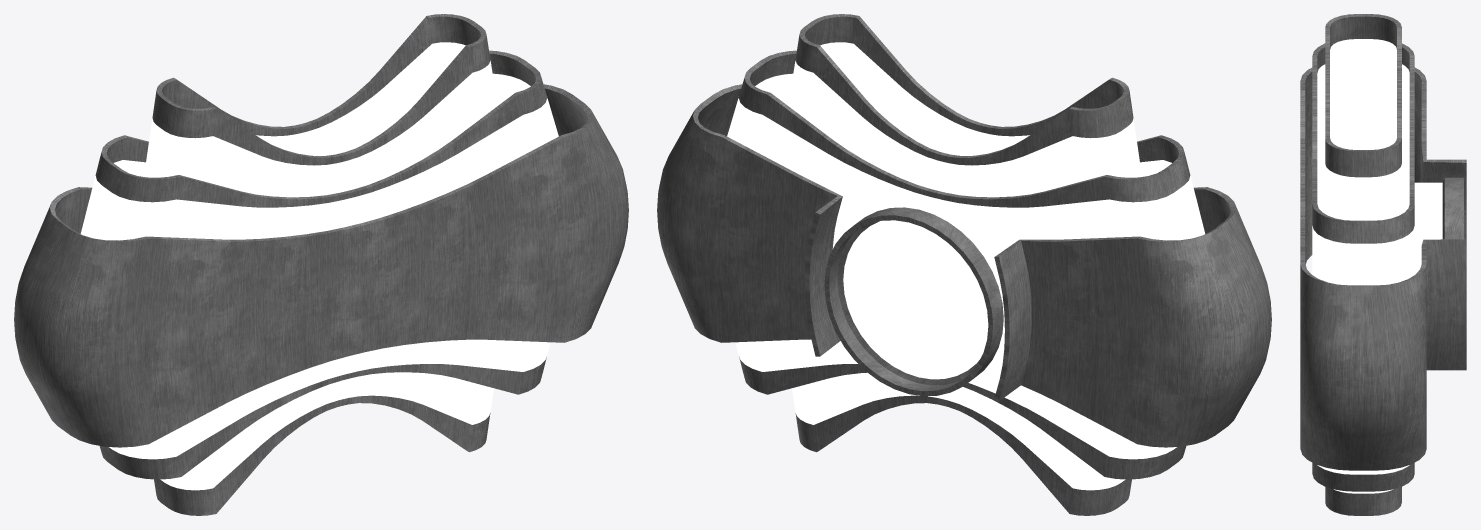
File: lamp_type_10.glb
The picture shows the model from 3 angles, left to right: view 1: azimuth 30°, elevation 25°; view 2: azimuth 150°, elevation 25°; view 3: azimuth 270°, elevation 25°; orthographic projection. The views are drawn at different scales.
Visible parts, largest first — view 1: lamp.wall.003; view 2: lamp.wall.003; view 3: lamp.wall.003.
Boxes of the visible parts, <box> form: lamp.wall.003: <box>14,14,628,515</box>; lamp.wall.003: <box>657,14,1271,515</box>; lamp.wall.003: <box>1300,14,1466,515</box>.
Size of the model in its own units: 0.741 by 0.4874 by 0.2013.
3 materials, 1 textured.
